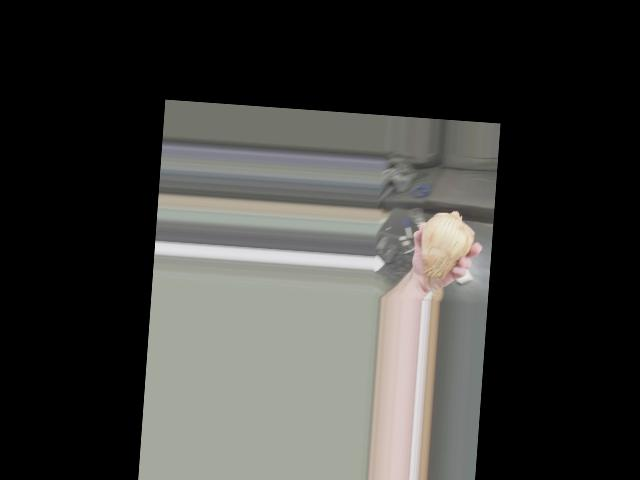onion: (418, 209, 475, 277)
